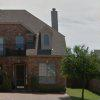Chimney: (46, 5, 73, 38)
